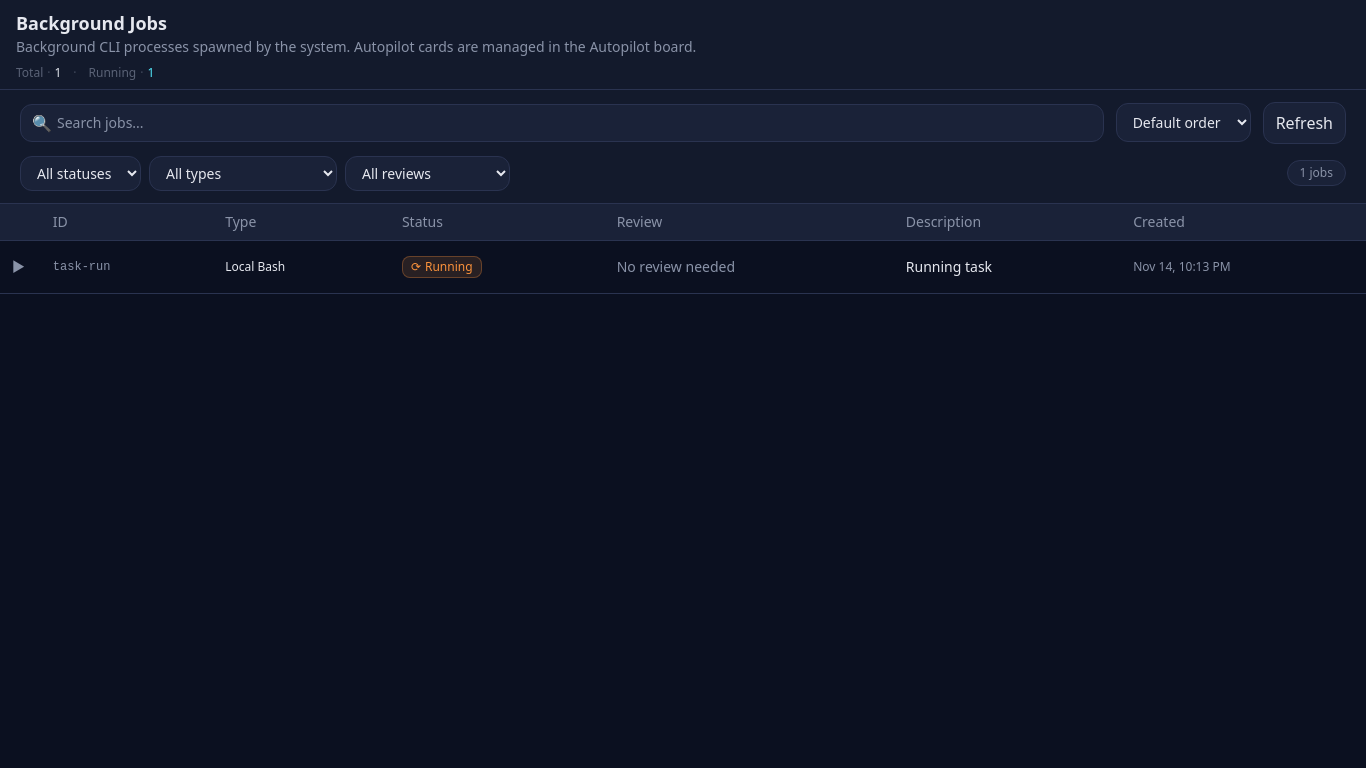
Test: TasksPage drawer › shows an error message when the detail request fails
This screenshot has width=1366, height=768.
Click the text "Running task".
click(949, 266)  # box [906,256,992,276]
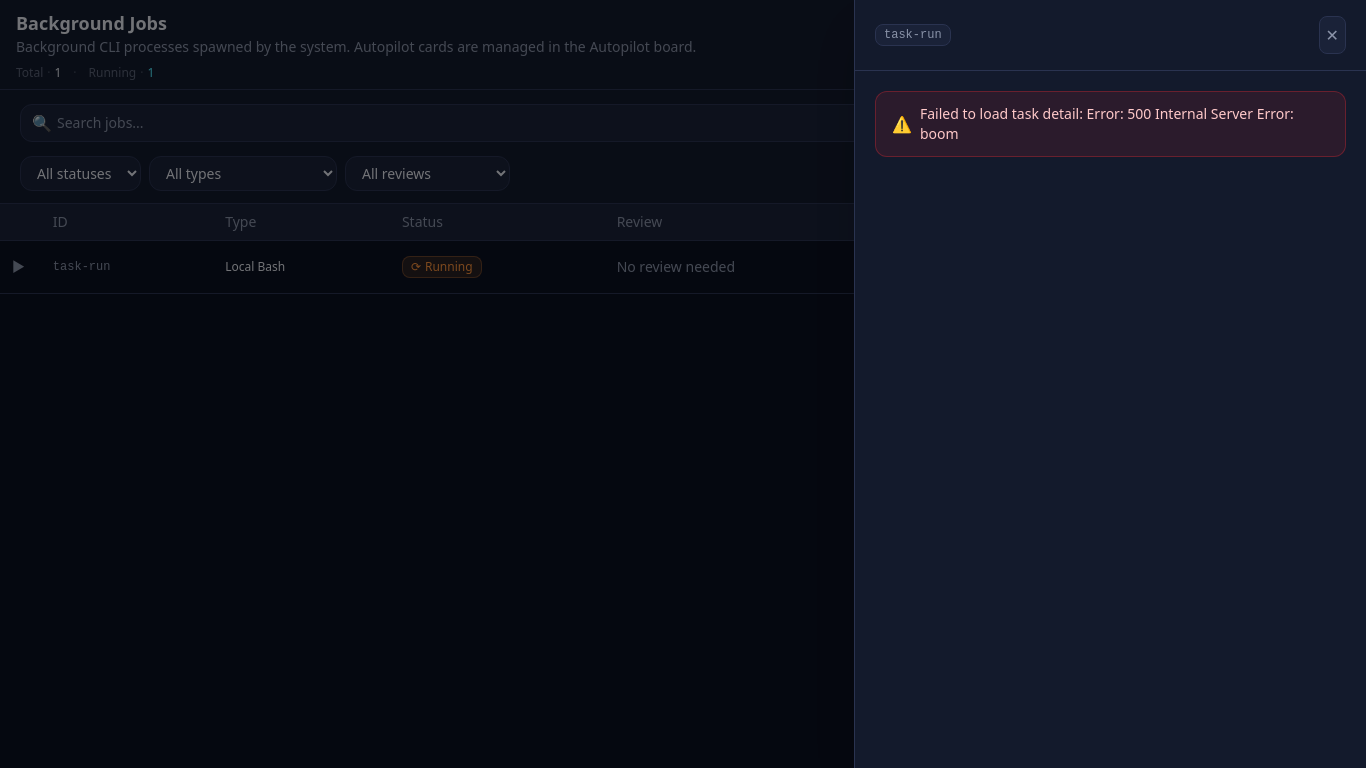
Expected: the text "500" is shown, [920,104,1294,143]
